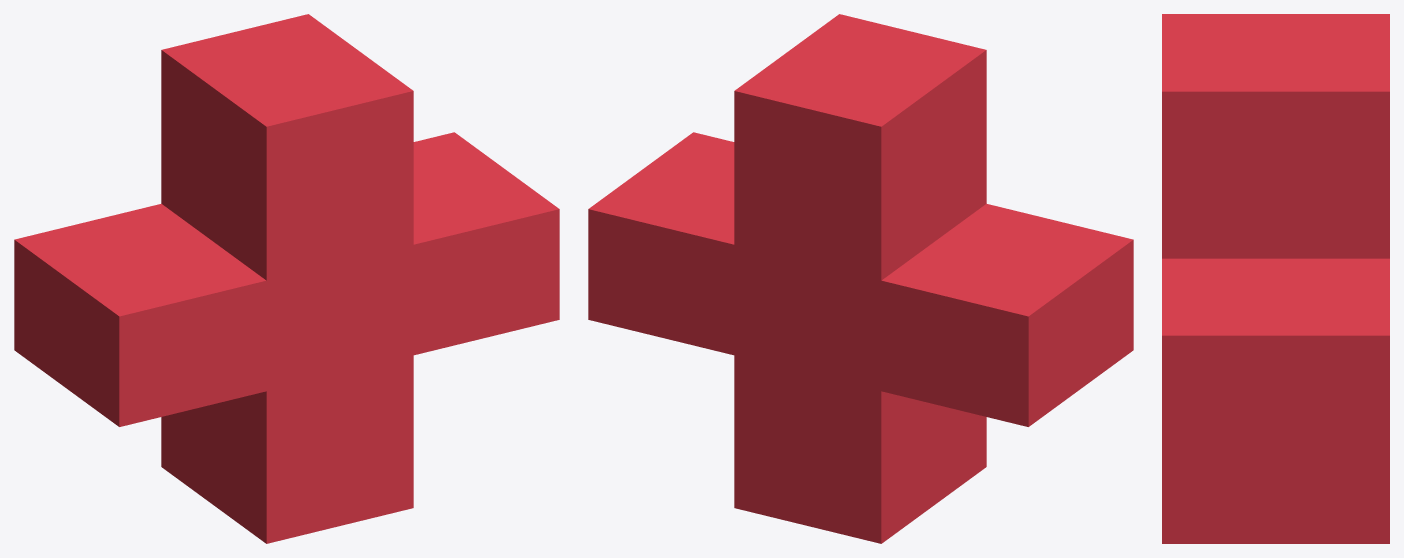
Rendered from plus.glb.
3 renders of one model, left to right at view 1: azimuth 30°, elevation 25°; view 2: azimuth 150°, elevation 25°; view 3: azimuth 270°, elevation 25°, orthographic. The views are drawn at different scales.
Parts seen in each view (by area): view 1: plus; view 2: plus; view 3: plus.
Boxes of the visible parts, <box> form: plus: <box>14,14,559,543</box>; plus: <box>588,14,1133,543</box>; plus: <box>1162,14,1389,543</box>.
Bounding box in the file's own units: 1.21 × 1.1 × 0.5.
